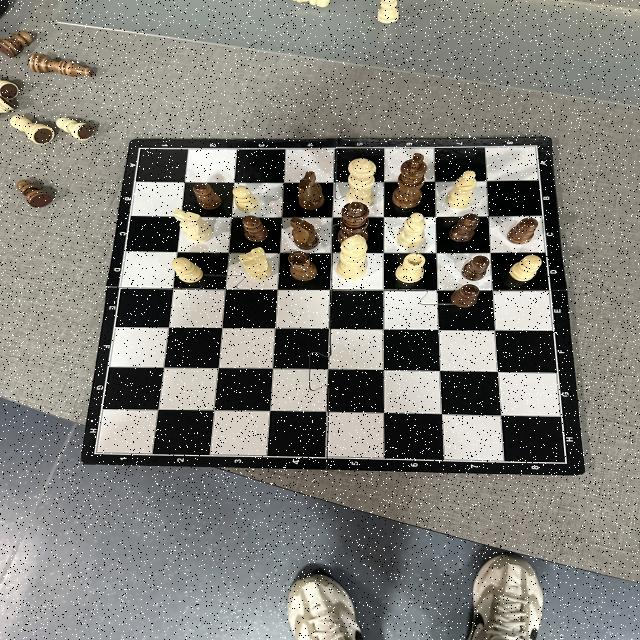Black-Bishop: (29, 52, 94, 77)
Black-King: (392, 153, 428, 209)
Black-Knight: (298, 172, 326, 210), (290, 216, 318, 250)
Black-Pawn: (17, 180, 53, 208), (0, 29, 34, 58), (506, 218, 538, 245), (450, 214, 480, 242), (193, 182, 222, 210), (242, 215, 268, 242), (451, 284, 479, 308), (462, 256, 489, 280)
Black-Queen: (338, 201, 370, 235)
Black-Rook: (288, 251, 318, 281)
White-Bishop: (445, 170, 477, 209), (396, 212, 426, 250)
White-King: (336, 234, 368, 280)
White-Knight: (172, 208, 214, 242), (238, 247, 273, 280)
White-Pawn: (55, 116, 96, 142), (510, 254, 542, 282), (172, 257, 203, 283), (232, 185, 260, 212), (377, 0, 399, 24)
White-Queen: (346, 158, 376, 206)
White-Rook: (10, 116, 56, 144), (396, 254, 426, 284)
